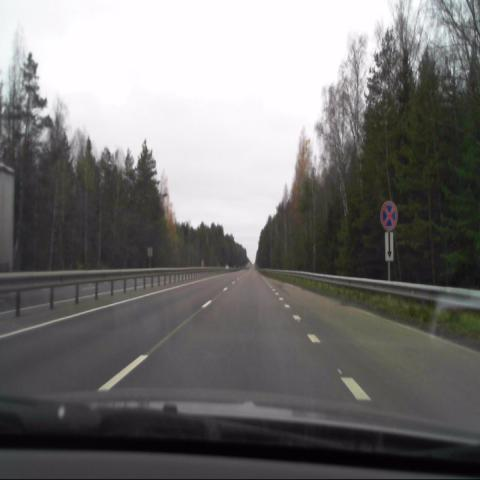8_2_3: (384, 231, 394, 261)
